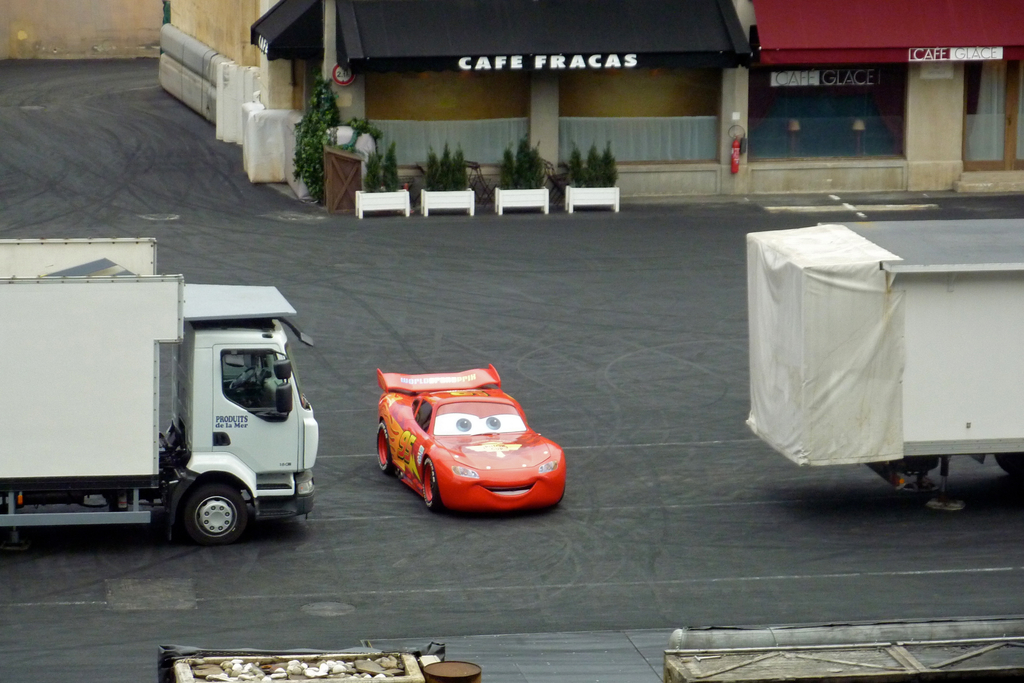Car: (359, 373, 572, 518)
